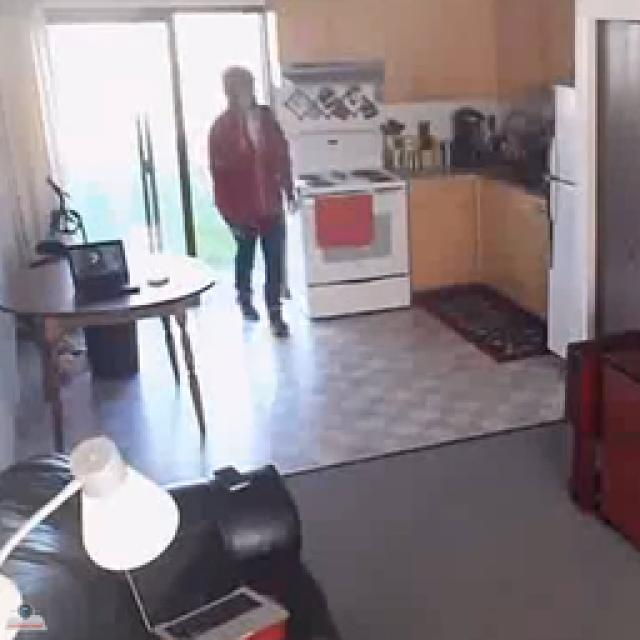person: (201, 62, 303, 340)
